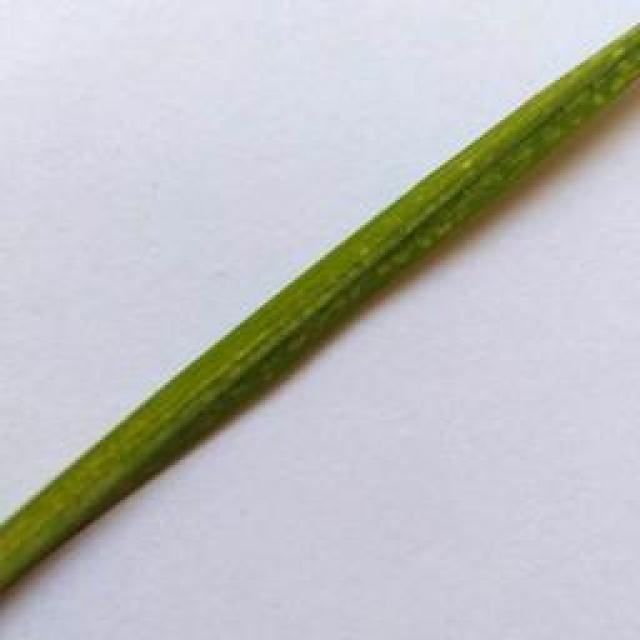Healthy-Plant: (0, 24, 640, 593)
